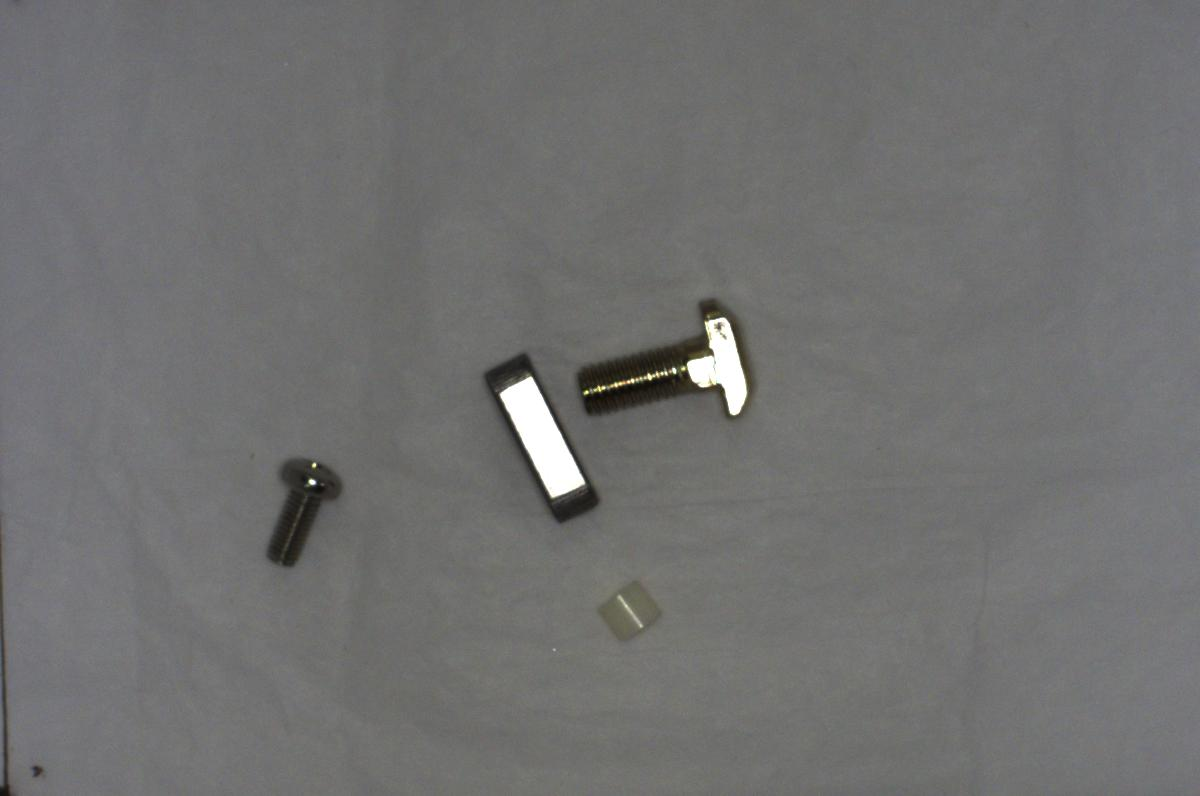Keybar: (480, 343, 602, 528)
Plastic cushion pillar: (594, 572, 675, 650)
Round head screw: (255, 446, 354, 573)
T-shaped screw: (564, 288, 762, 438)
